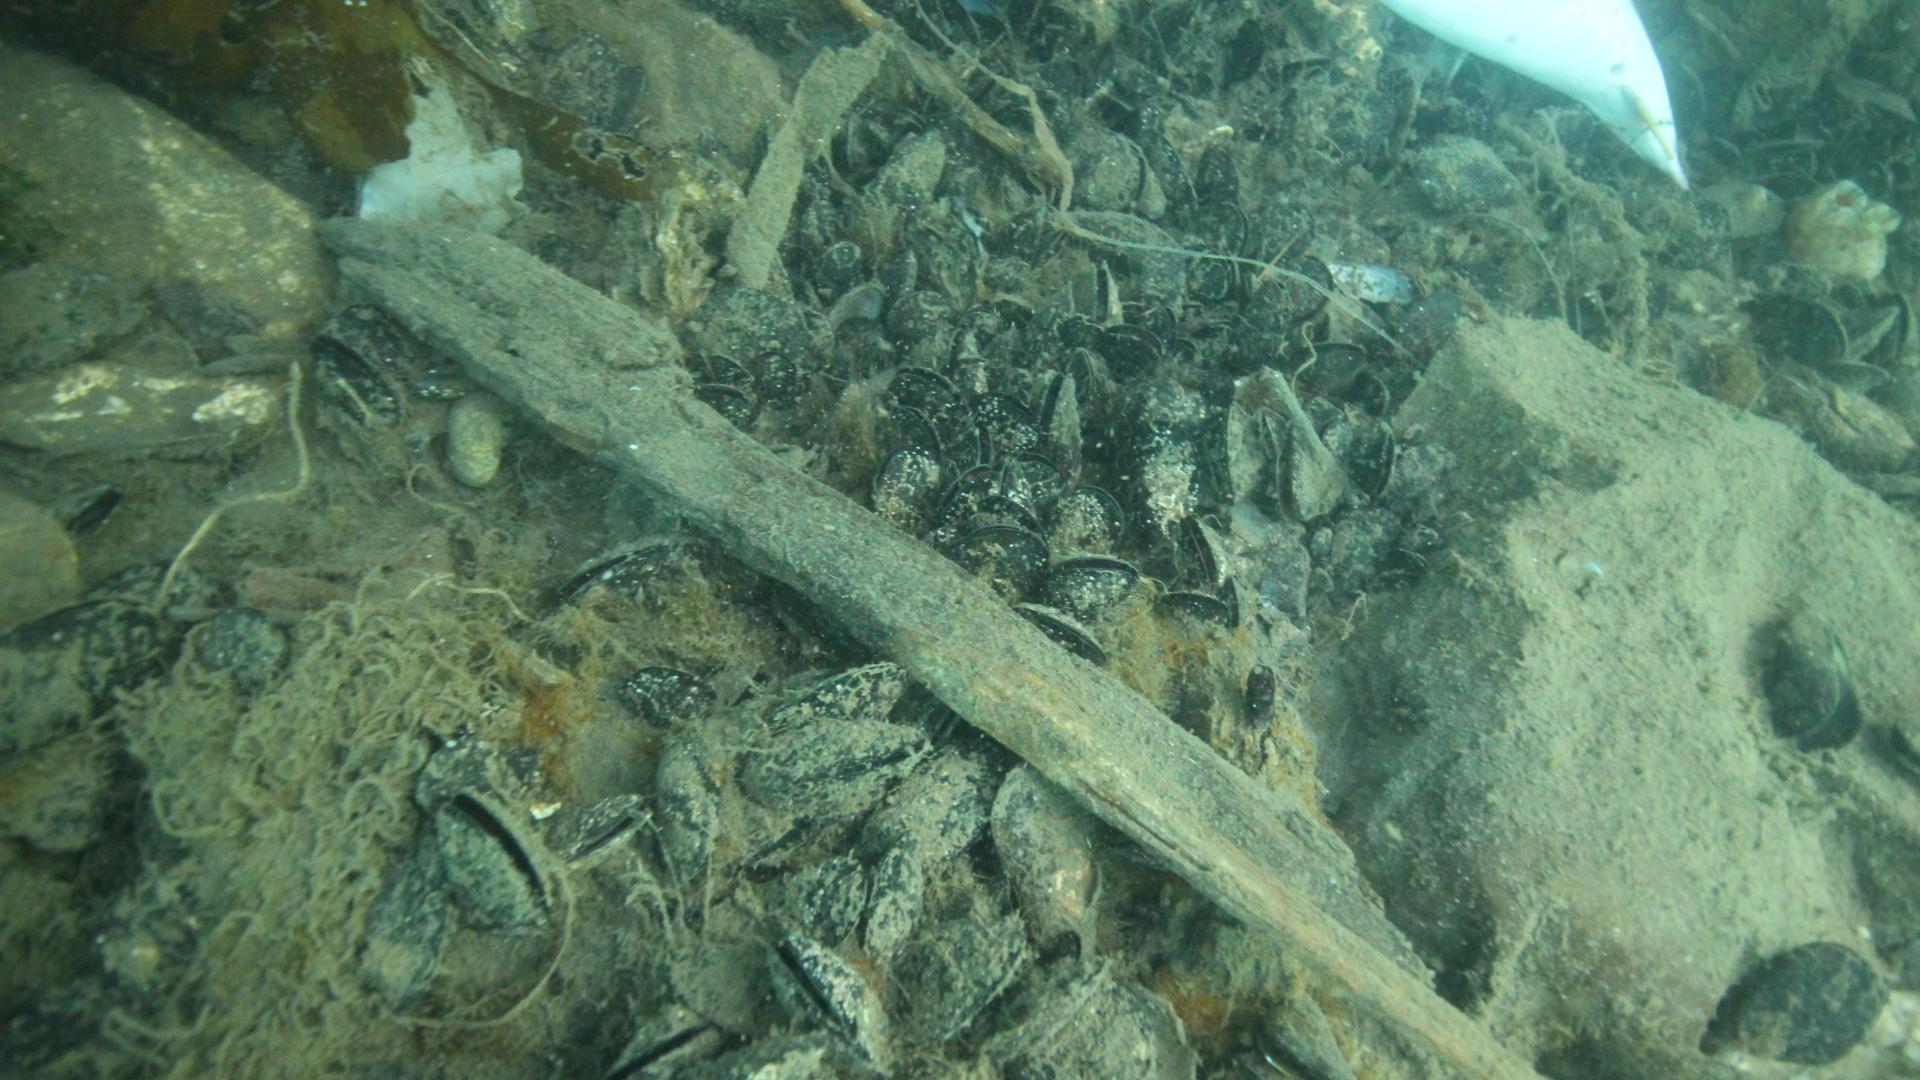wood: (313, 214, 1543, 1080)
